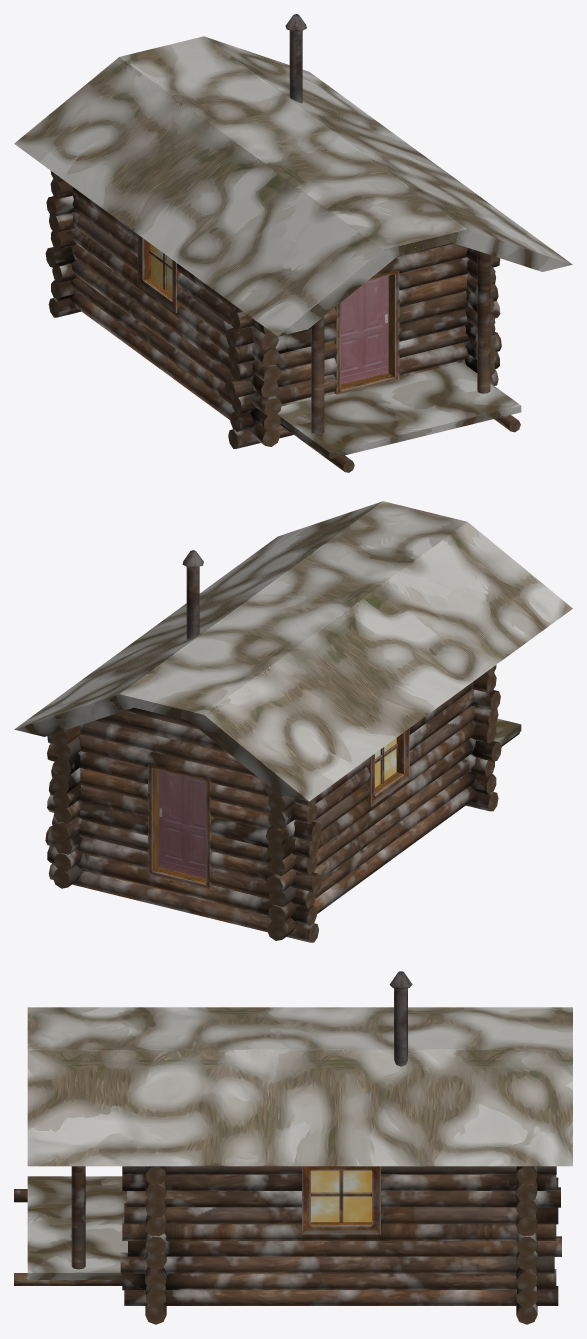
File: gwj90-loghut.glb
3 views of the same model, one above another, from view 1: azimuth 30°, elevation 25°; view 2: azimuth 150°, elevation 25°; view 3: azimuth 270°, elevation 25° (orthographic). The views are drawn at different scales.
Visible parts, largest first — view 1: roof, logs-01.002, logs-02.002, door, log-legar-01, window, chiemney, log-legar-02; view 2: roof, logs-02.002, logs-01.002, door, window, chiemney; view 3: roof, logs-01.002, logs-02.002, window, log-legar-01, chiemney, log-legar-02.
Part boxes in pixels (x1=…): roof: x1=14, y1=36, x2=572, y2=458; logs-01.002: x1=53, y1=187, x2=496, y2=446; logs-02.002: x1=45, y1=171, x2=501, y2=448; door: x1=334, y1=270, x2=399, y2=394; log-legar-01: x1=311, y1=251, x2=490, y2=433; window: x1=137, y1=234, x2=180, y2=312; chiemney: x1=285, y1=14, x2=306, y2=103; log-legar-02: x1=280, y1=415, x2=520, y2=472; roof: x1=14, y1=501, x2=572, y2=801; logs-02.002: x1=45, y1=665, x2=501, y2=942; logs-01.002: x1=51, y1=672, x2=494, y2=940; door: x1=148, y1=764, x2=213, y2=889; window: x1=366, y1=728, x2=409, y2=806; chiemney: x1=182, y1=550, x2=203, y2=639; roof: x1=27, y1=1007, x2=572, y2=1279; logs-01.002: x1=120, y1=1166, x2=561, y2=1305; logs-02.002: x1=145, y1=1166, x2=537, y2=1324; window: x1=302, y1=1166, x2=380, y2=1234; log-legar-01: x1=71, y1=1166, x2=85, y2=1269; chiemney: x1=389, y1=971, x2=412, y2=1066; log-legar-02: x1=14, y1=1189, x2=122, y2=1285.
Size of what is drawn, in the model's own units: 5.51 by 5.39 by 8.74.
4 materials, 4 textured.
